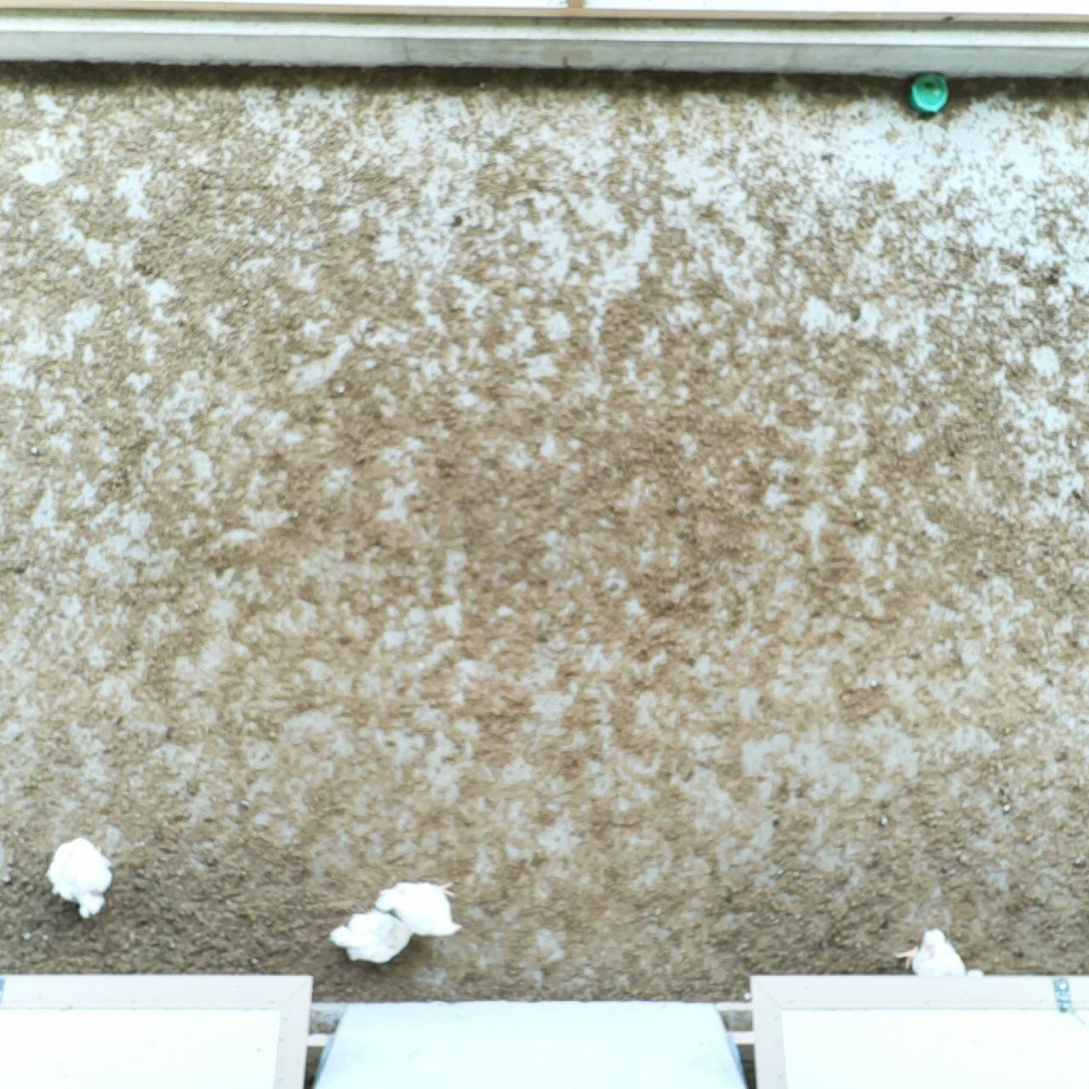chicken: (41, 828, 116, 926), (373, 868, 466, 942), (325, 897, 416, 970), (892, 918, 976, 983)
